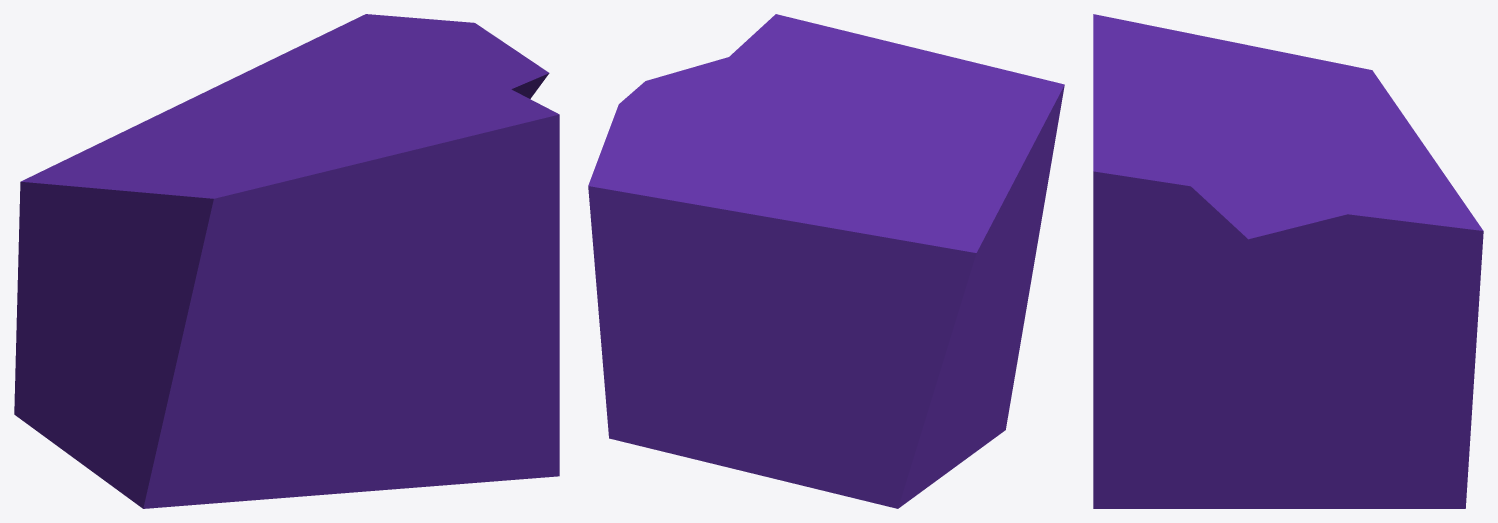
The model's file is cube_thing.obj.
3 views of the same model, side by side, from view 1: azimuth 30°, elevation 25°; view 2: azimuth 150°, elevation 25°; view 3: azimuth 270°, elevation 25° (orthographic). The views are drawn at different scales.
Parts seen in each view (by area): view 1: Cube; view 2: Cube; view 3: Cube.
Boxes of the visible parts, x1,y1,x2,y2 form: Cube: (14, 14, 559, 508); Cube: (588, 14, 1064, 508); Cube: (1093, 14, 1483, 508).
Size of the model in its own units: 1.63 by 1.22 by 1.28.
